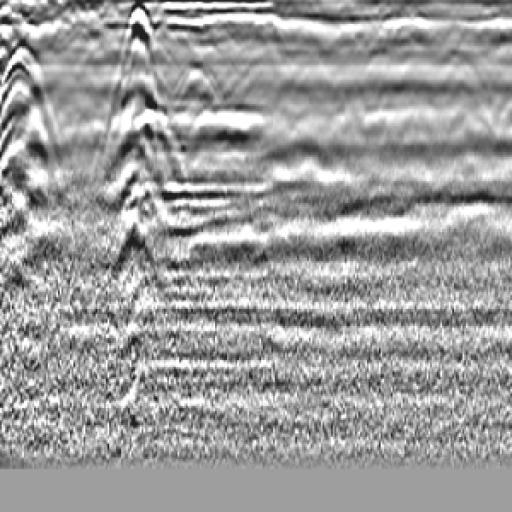metalic: (96, 19, 191, 330)
nonmetalic: (1, 30, 71, 198), (158, 58, 242, 169)
